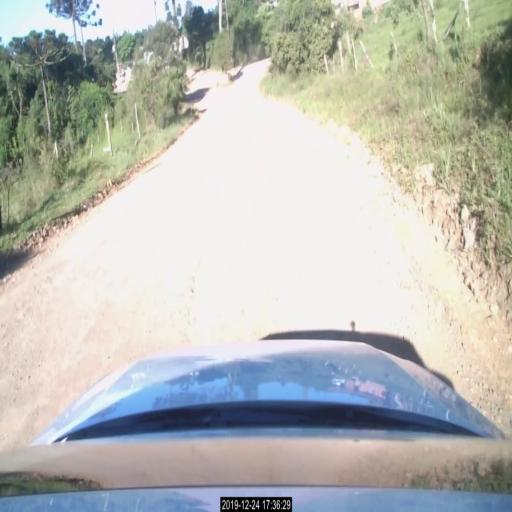Pothole: (168, 264, 280, 320), (8, 292, 84, 374), (384, 224, 451, 317)
